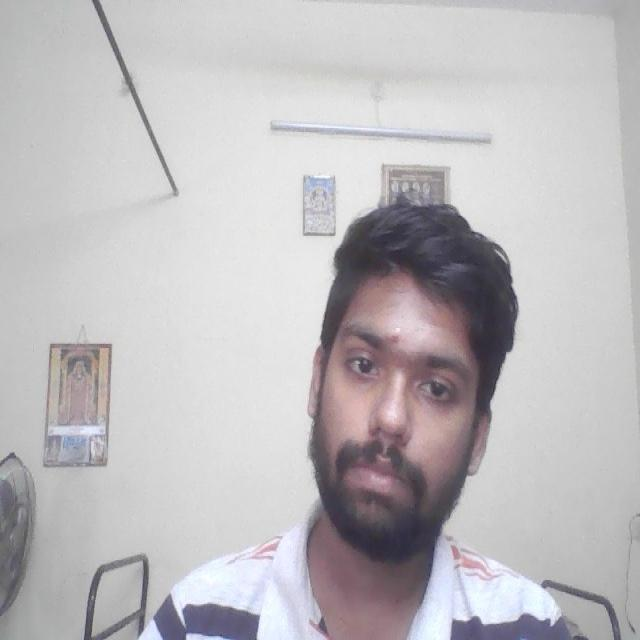Focused: (310, 297, 493, 522)
